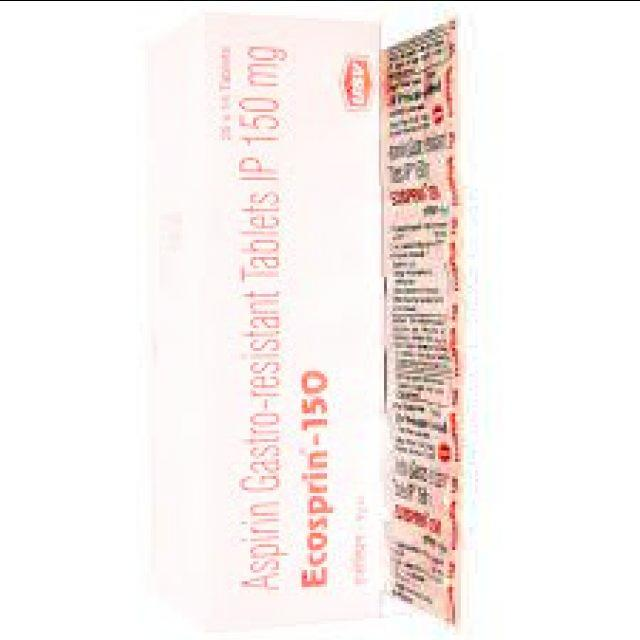authentic: (149, 0, 385, 634), (379, 0, 488, 634)
